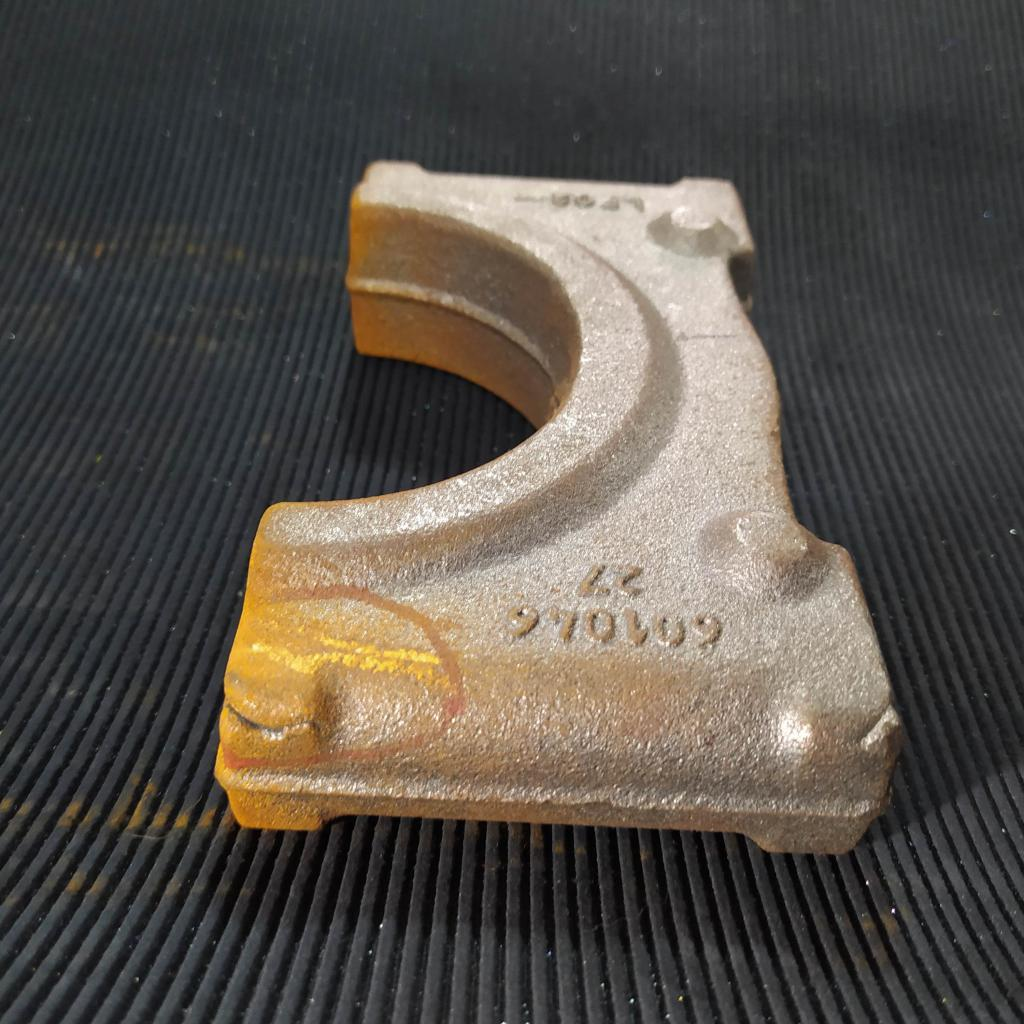rechupe: (222, 694, 321, 747), (850, 701, 903, 751)
